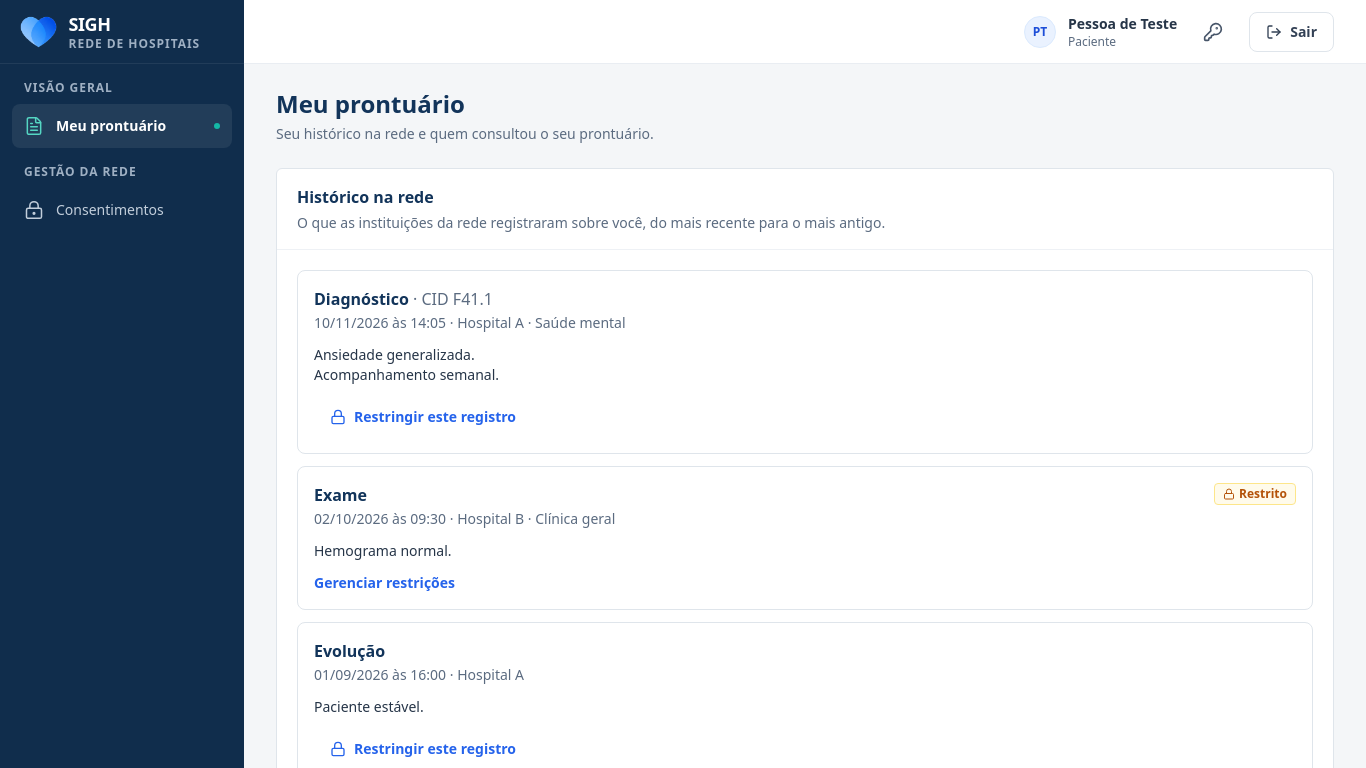
Scenario: FE-05: Meu prontuário — histórico na rede › restringir um registro explica o efeito, envia o registro e recarrega o histórico
Expected: the heading "Meu prontuário" is shown, [276,87,465,120]
Click the button "Restringir este registro" below "Paciente estável." at (423, 749), box [314,729,532,767]
(page scrolled)
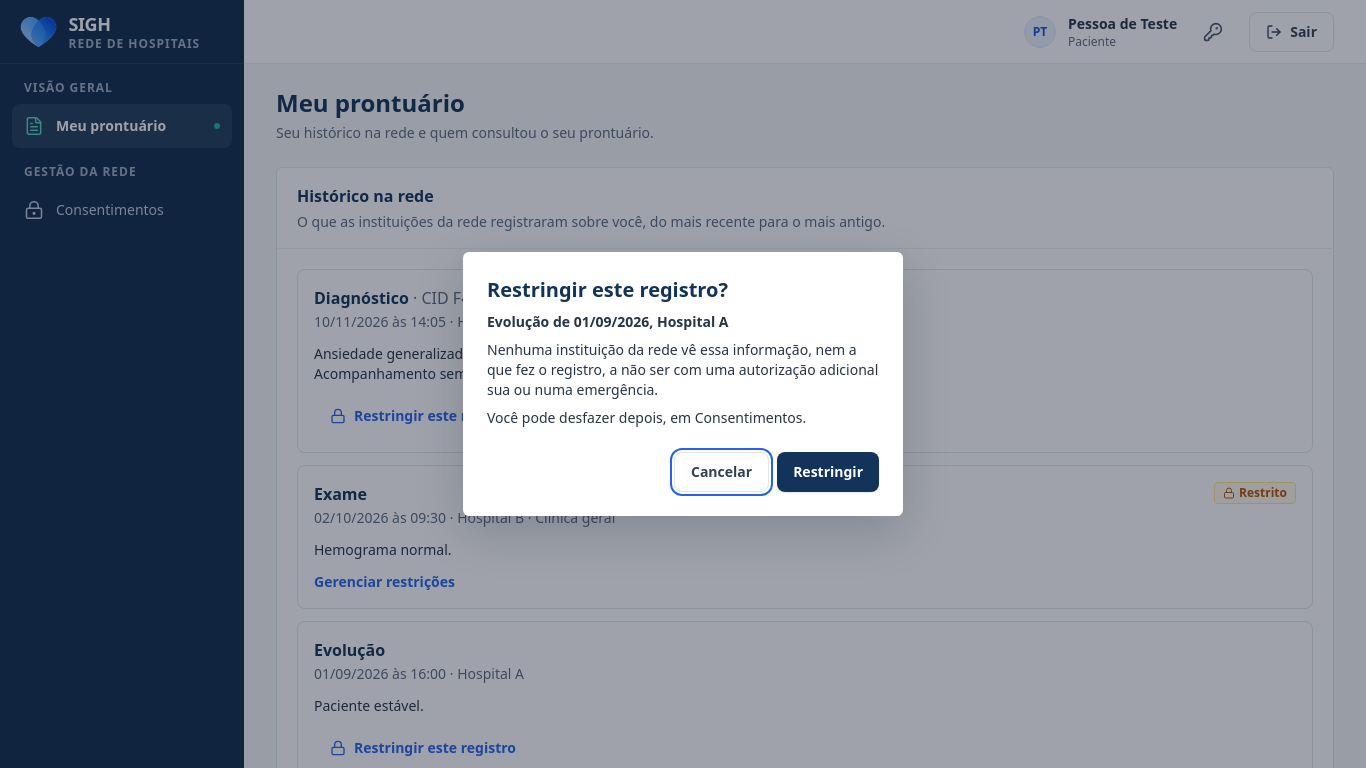
Now the dialog "Restringir este registro?" shows "Evolução de 01/09/2026, Hospital A", box [487,312,728,331]
Now the dialog "Restringir este registro?" shows "Nenhuma instituição da rede vê essa informação, nem a que fez o registro", box [487,340,878,399]
Click the button "Restringir" at (828, 472), box [777,452,879,492]
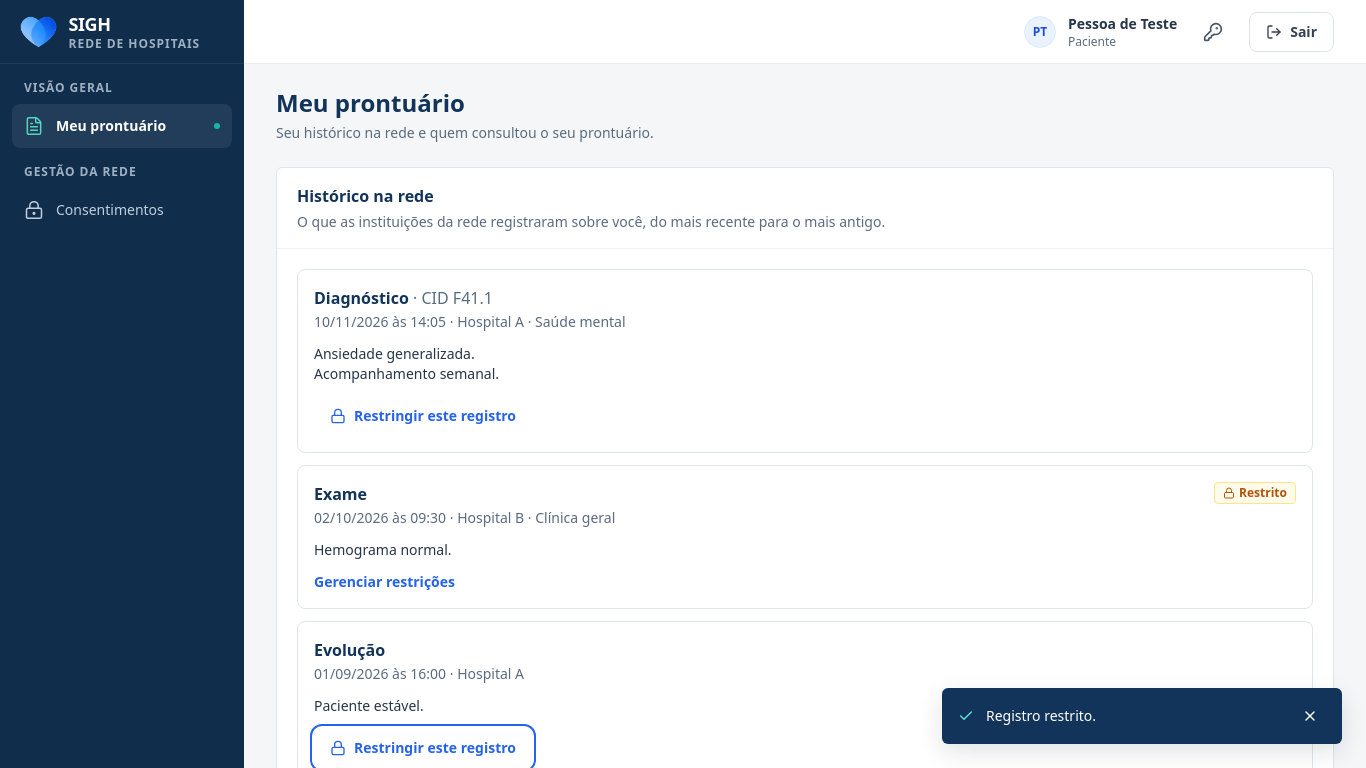
Now the dialog is gone
Now the text "Registro restrito." is shown, box [986,706,1096,725]
